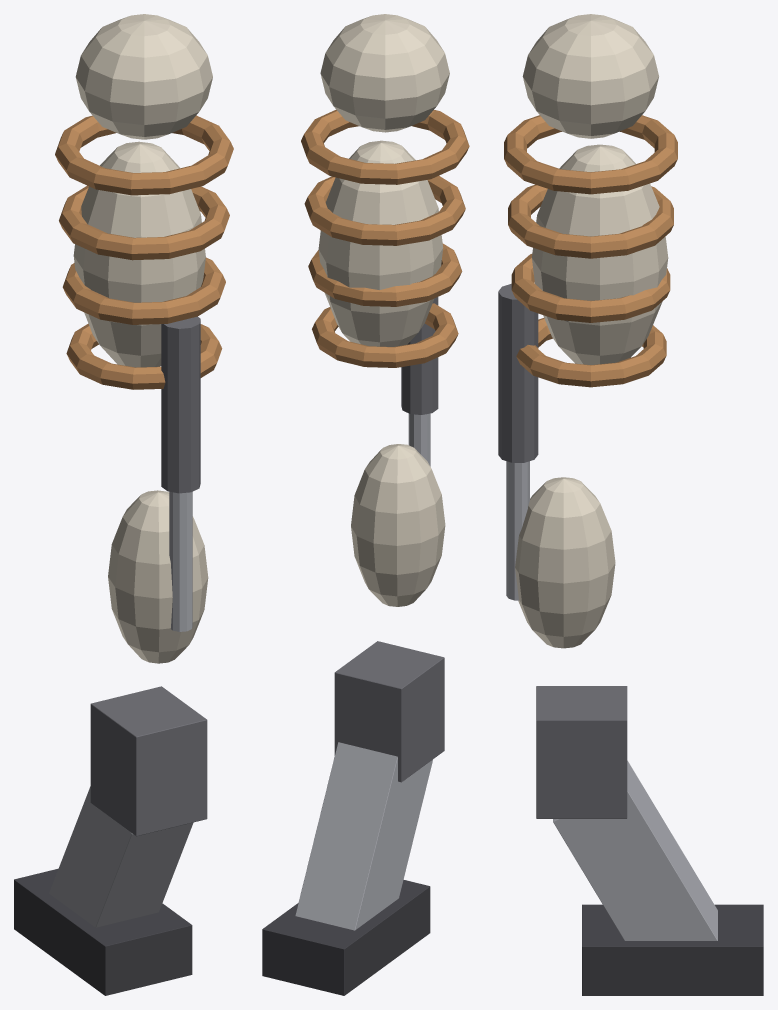
The model's file is sinew-stilt.glb.
3 views of the same model, side by side, from view 1: azimuth 30°, elevation 25°; view 2: azimuth 150°, elevation 25°; view 3: azimuth 270°, elevation 25° (orthographic). The views are drawn at different scales.
Parts seen in each view (by area): view 1: ankle, thigh, hip, toepad, toeleg, calf, sleeve, rib0, rib1, rib2, rib3, rod; view 2: toeleg, thigh, calf, hip, ankle, toepad, rib0, rib1, rib3, rib2, sleeve, rod; view 3: thigh, toeleg, calf, hip, toepad, ankle, rib0, sleeve, rib1, rib3, rib2, rod.
Boxes of the visible parts, x1,y1,x2,y2 form: ankle: (90, 686, 207, 836); thigh: (73, 141, 205, 367); hip: (75, 14, 212, 139); toepad: (14, 868, 192, 995); toeleg: (49, 786, 193, 927); calf: (108, 490, 208, 663); sleeve: (161, 316, 200, 493); rib0: (55, 115, 233, 195); rib1: (59, 185, 229, 260); rib2: (62, 257, 225, 324); rib3: (66, 323, 222, 389); rod: (169, 491, 192, 631); toeleg: (295, 742, 432, 930); thigh: (318, 140, 443, 346); calf: (351, 444, 445, 606); hip: (320, 14, 449, 132); ankle: (334, 641, 444, 782); toepad: (262, 880, 430, 995); rib0: (301, 109, 469, 184); rib1: (304, 176, 465, 245); rib3: (312, 303, 458, 367); rib2: (308, 243, 462, 306); sleeve: (401, 297, 438, 414); rod: (408, 413, 430, 466); thigh: (532, 144, 668, 364); toeleg: (553, 760, 717, 940); calf: (515, 477, 615, 648); hip: (522, 14, 658, 138); toepad: (582, 904, 763, 995); ankle: (536, 686, 627, 818); rib0: (504, 115, 677, 194); sleeve: (498, 283, 538, 462); rib1: (508, 184, 673, 258); rib3: (516, 318, 666, 387); rib2: (511, 254, 670, 322); rod: (506, 461, 529, 600).
Size of the model in its own units: 0.196 by 1.16 by 0.292.
